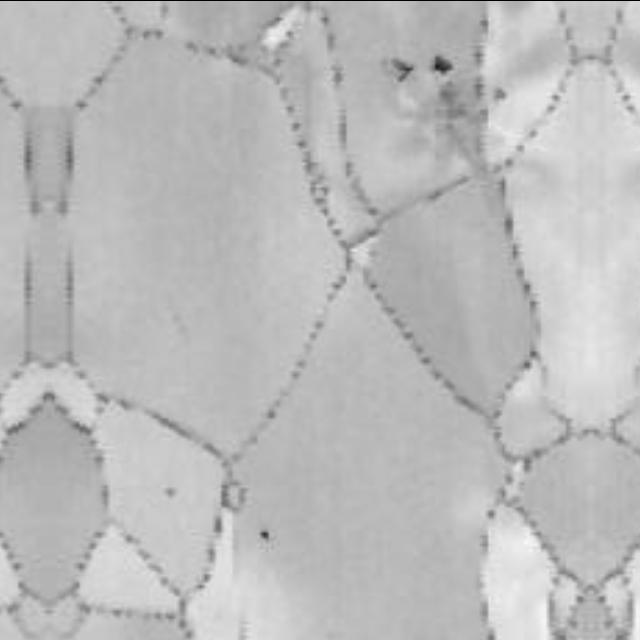good_void: (390, 55, 417, 81), (433, 53, 457, 75), (159, 483, 183, 499), (494, 83, 511, 105), (256, 525, 274, 542)
